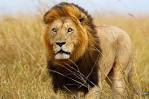lion: (37, 3, 138, 99)
